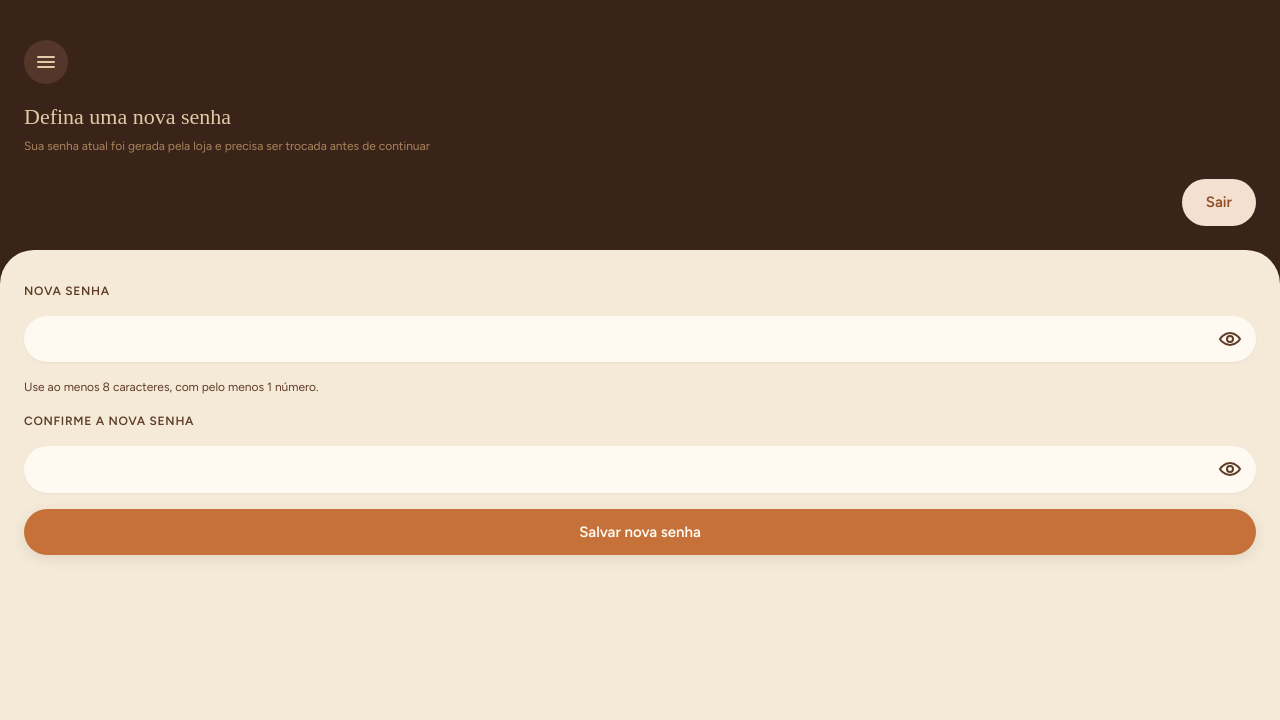
Test: ChangePasswordScreen › mostra a mensagem do backend quando a nova senha é recusada pela política
In the password field labelled "Nova senha": point(640, 339) [24,316,1256,362], type "chocolate"
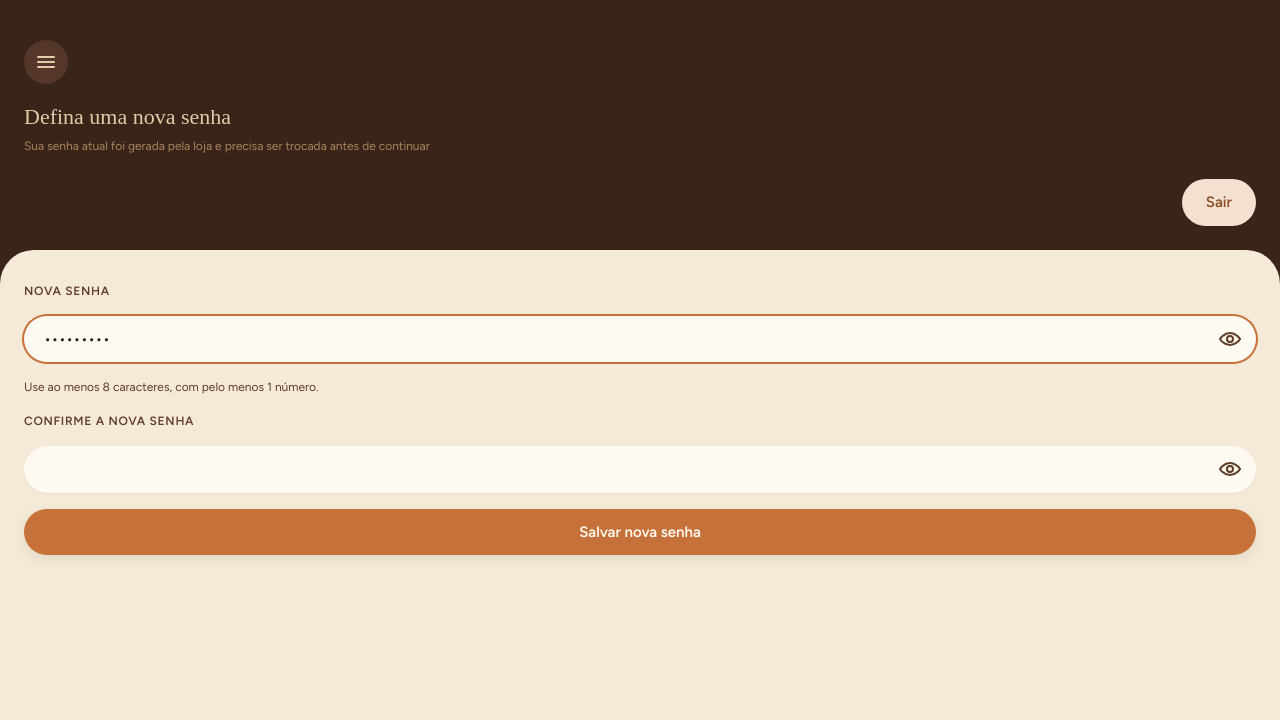
In the password field labelled "Confirme a nova senha": point(640, 469) [24,446,1256,492], type "chocolate"
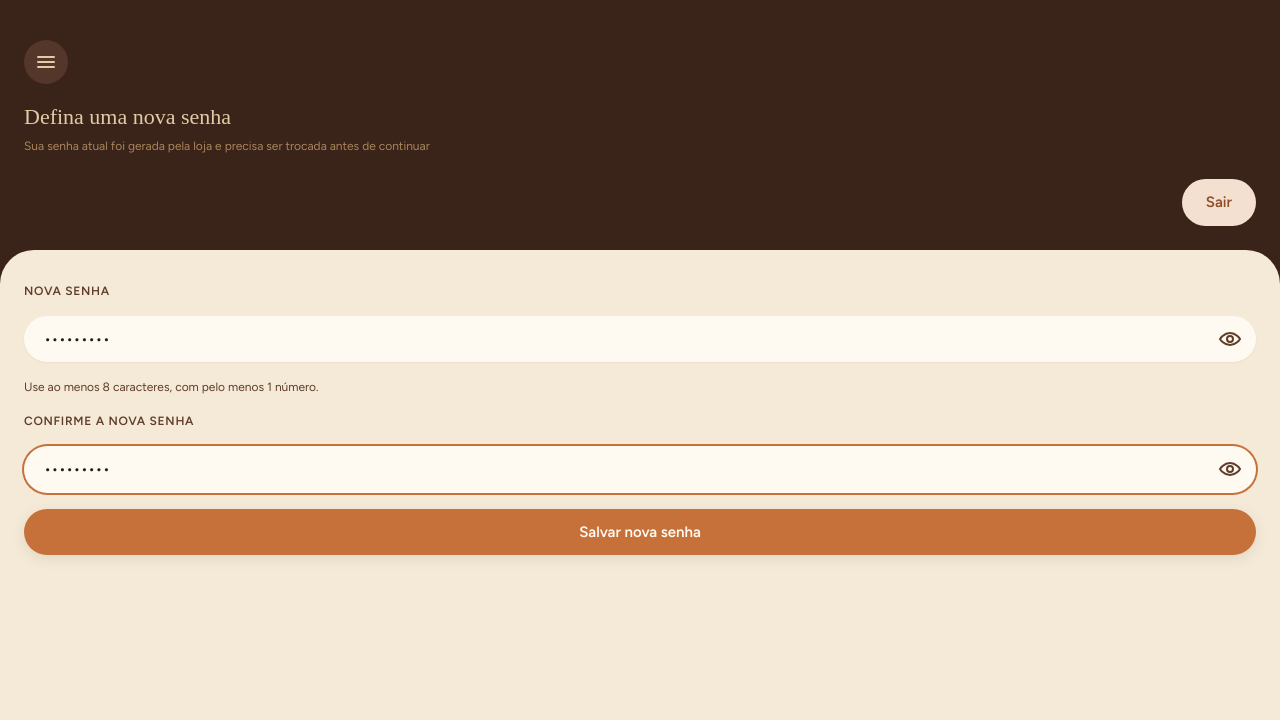
Click the button "Salvar nova senha": point(640, 532) [24,508,1256,555]
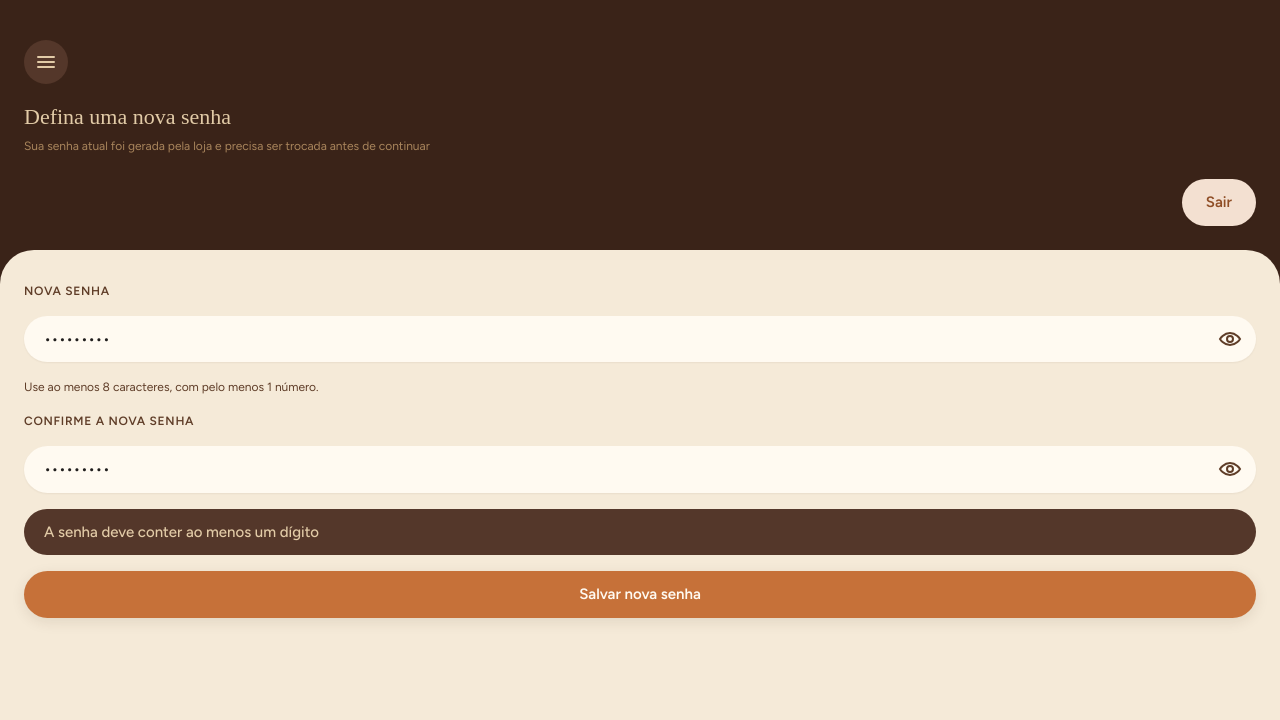
Expected: the message reads "A senha deve conter ao menos um dígito", [44,522,319,540]
